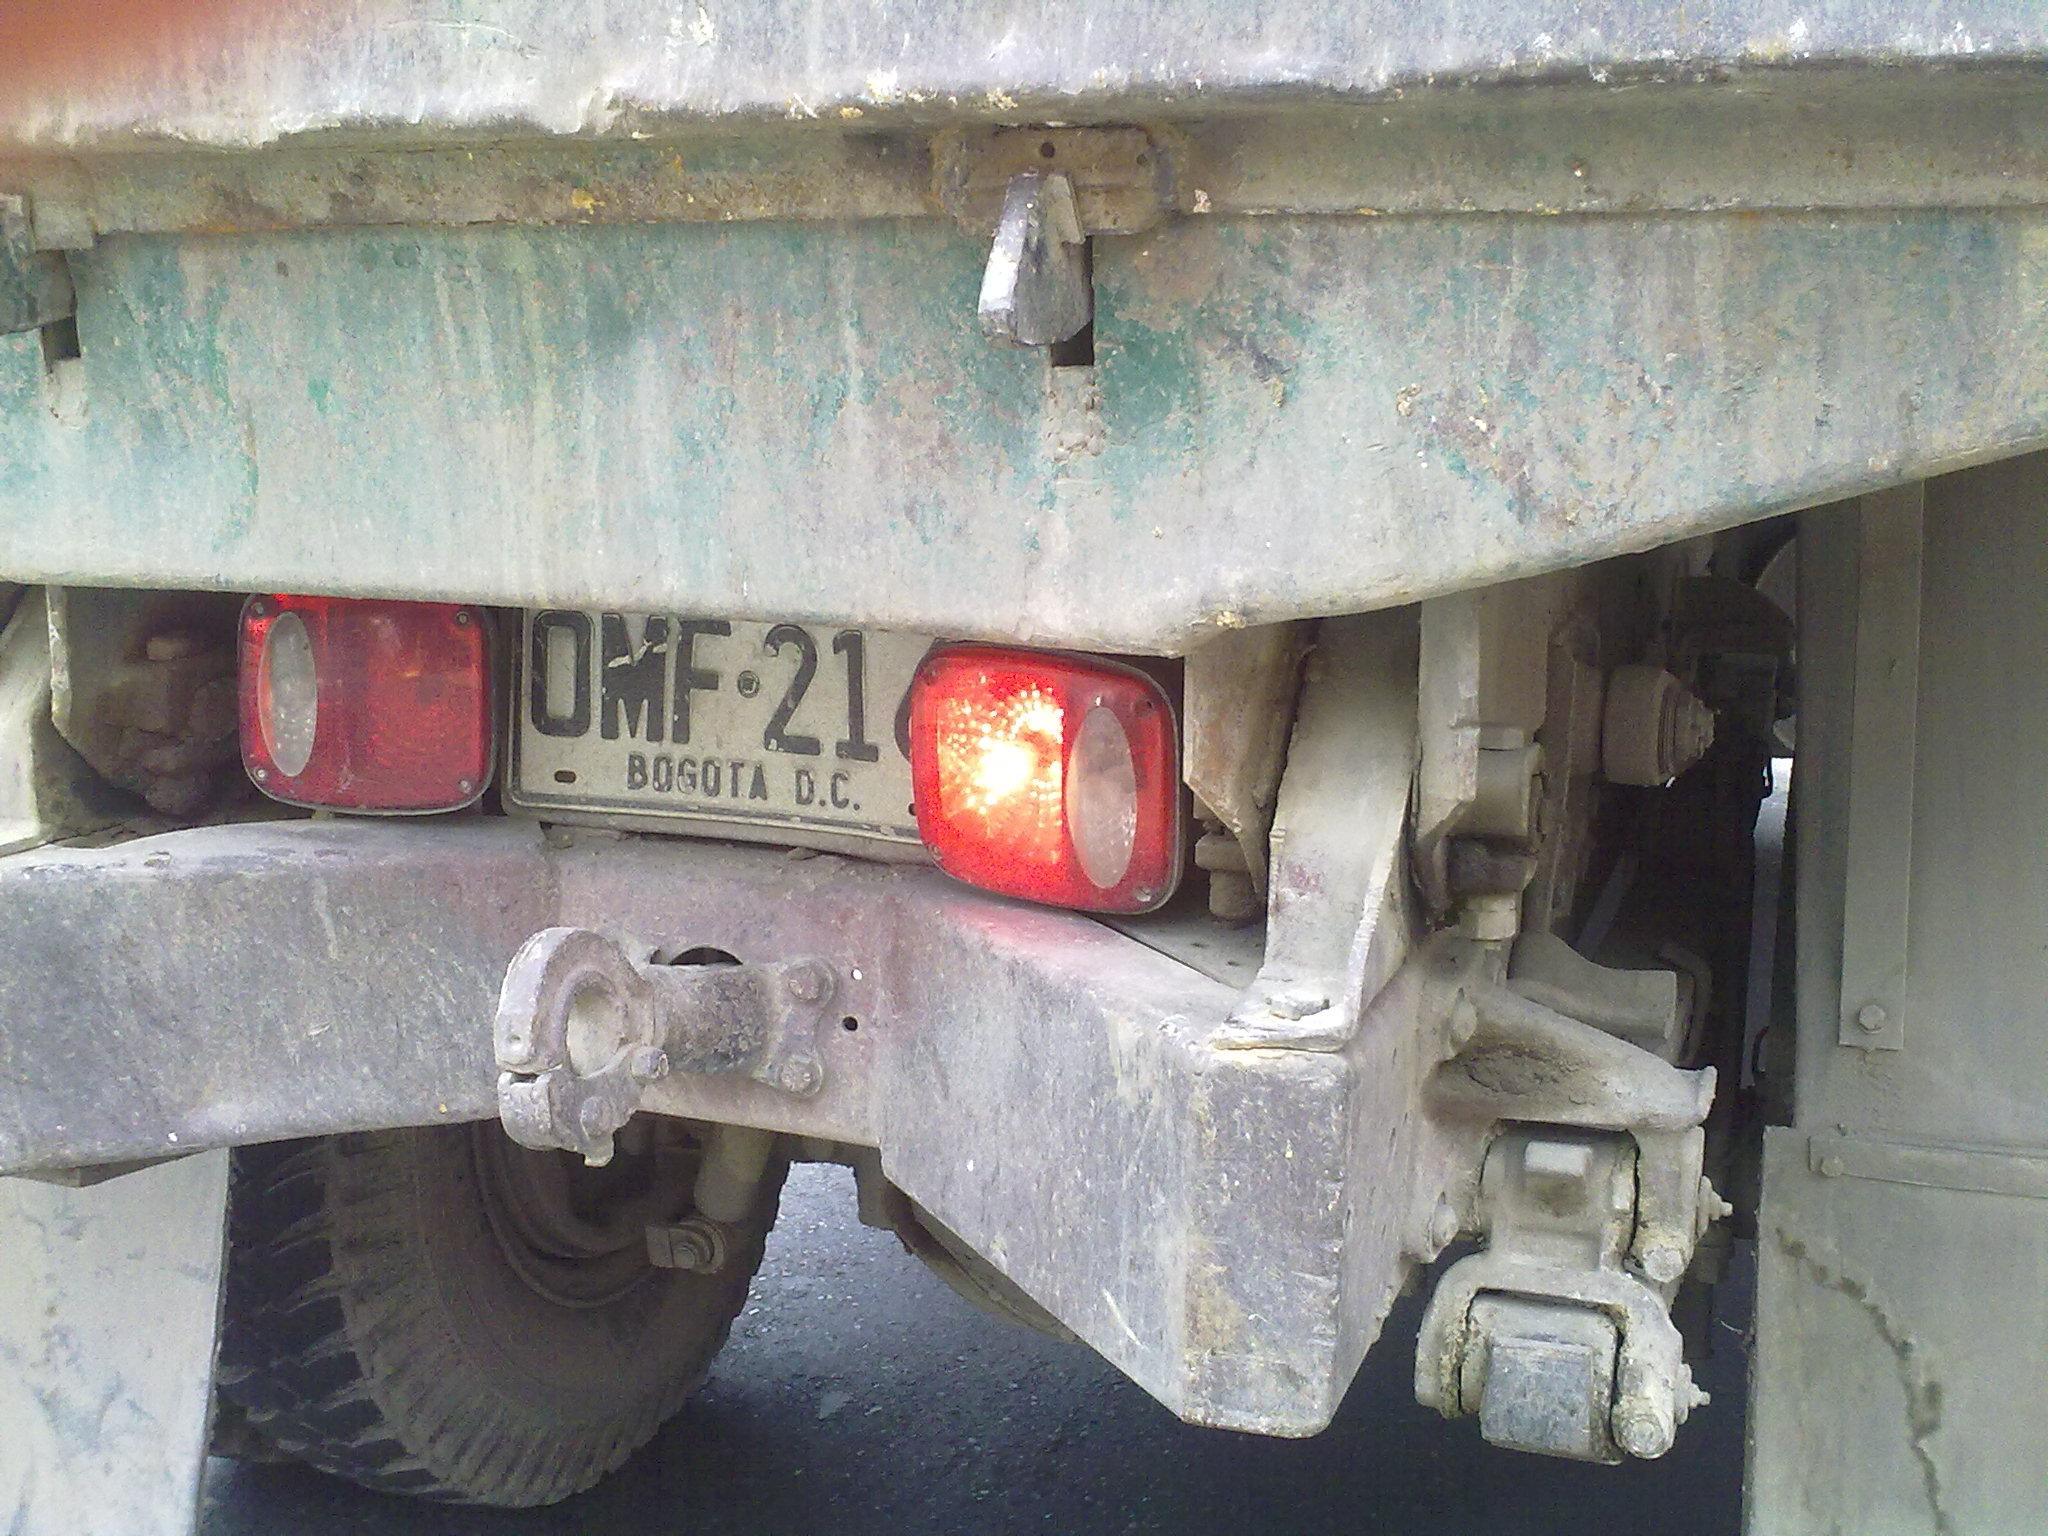placas: (494, 590, 988, 860)
